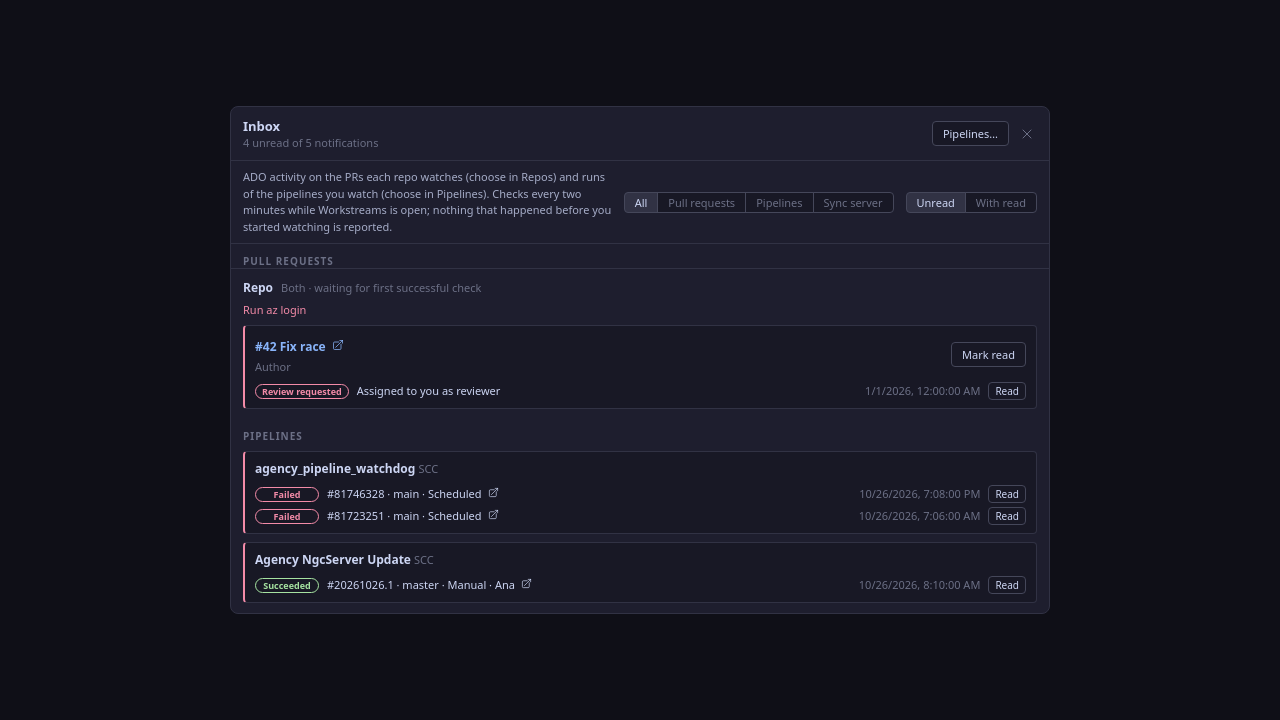
Inbox, pipelines (ADR 038) › filters by kind and by read state
The image size is (1280, 720).
Click the button "Pipelines" at [779, 202], box [745, 192, 814, 212]
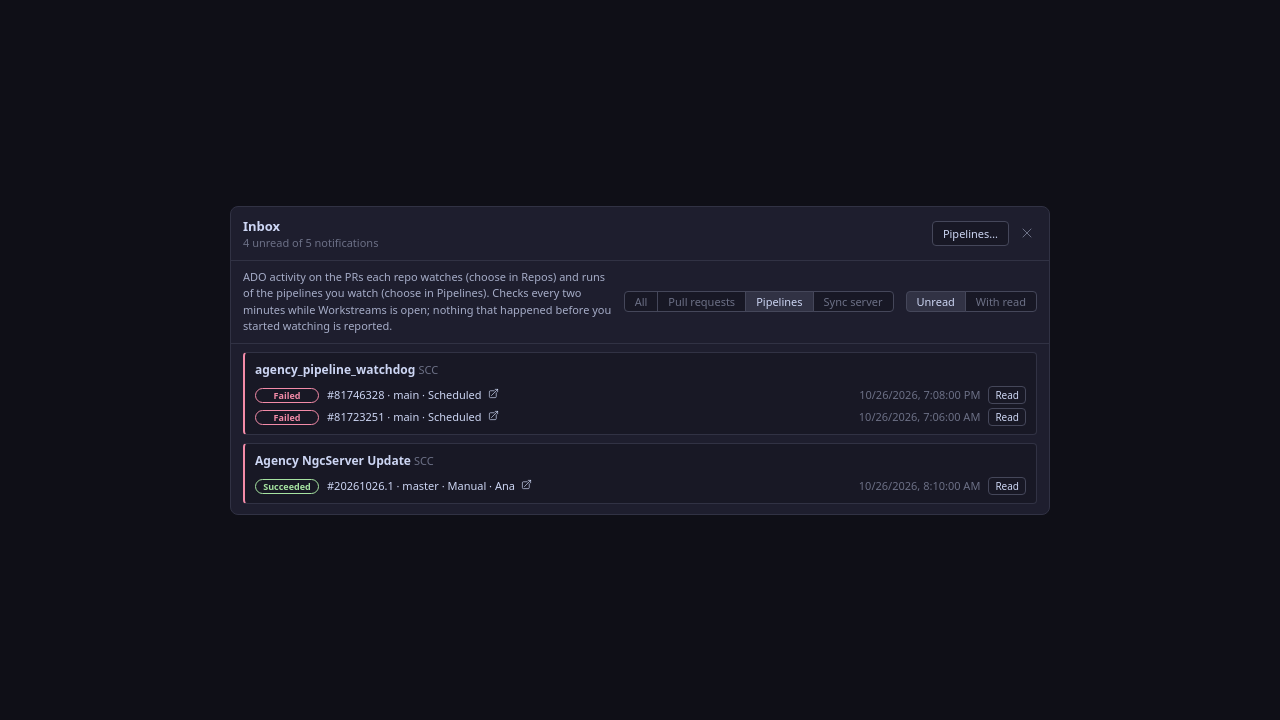
Check: the element with test id "inbox-section-pipelines" is shown, box [231, 352, 1049, 514]
Check: the element with test id "inbox-section-prs" is gone
Click the button "With read" at [1001, 302], box [965, 291, 1037, 312]
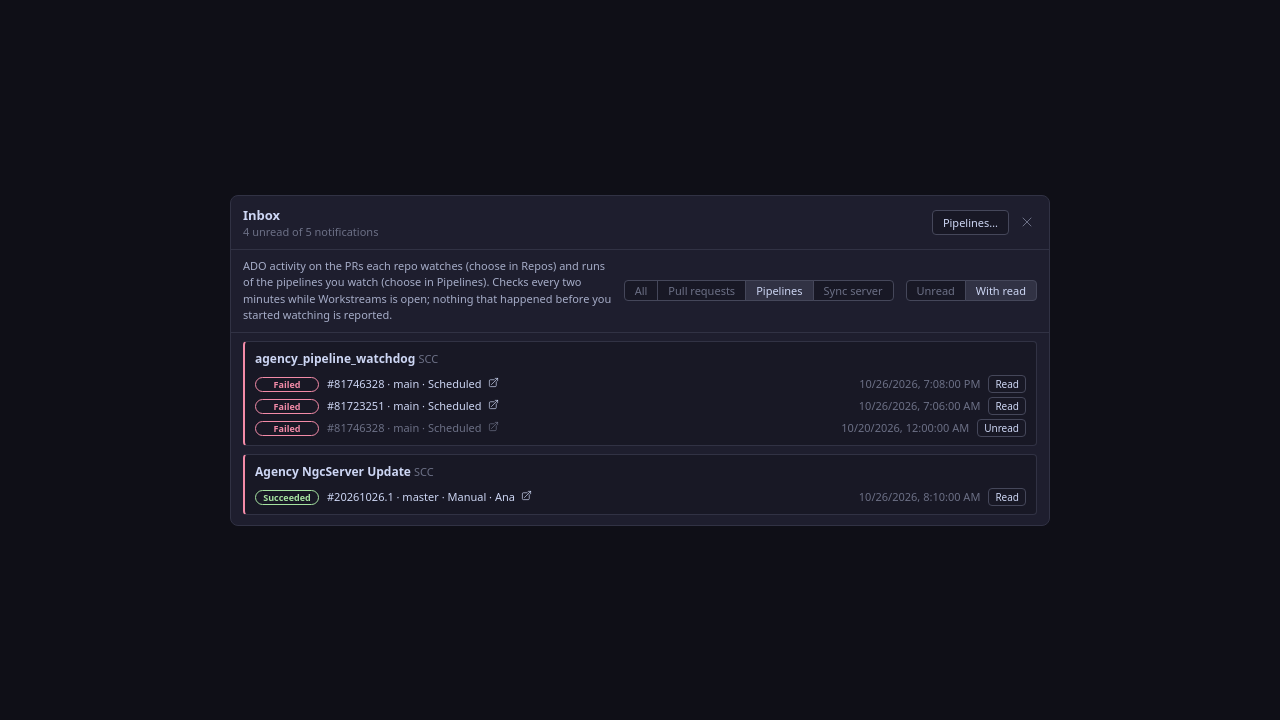
Check: the list item with test id "pipeline-notification-old" is shown, box [255, 418, 1026, 436]
Click the button "Pull requests" at [702, 290], box [657, 280, 746, 301]
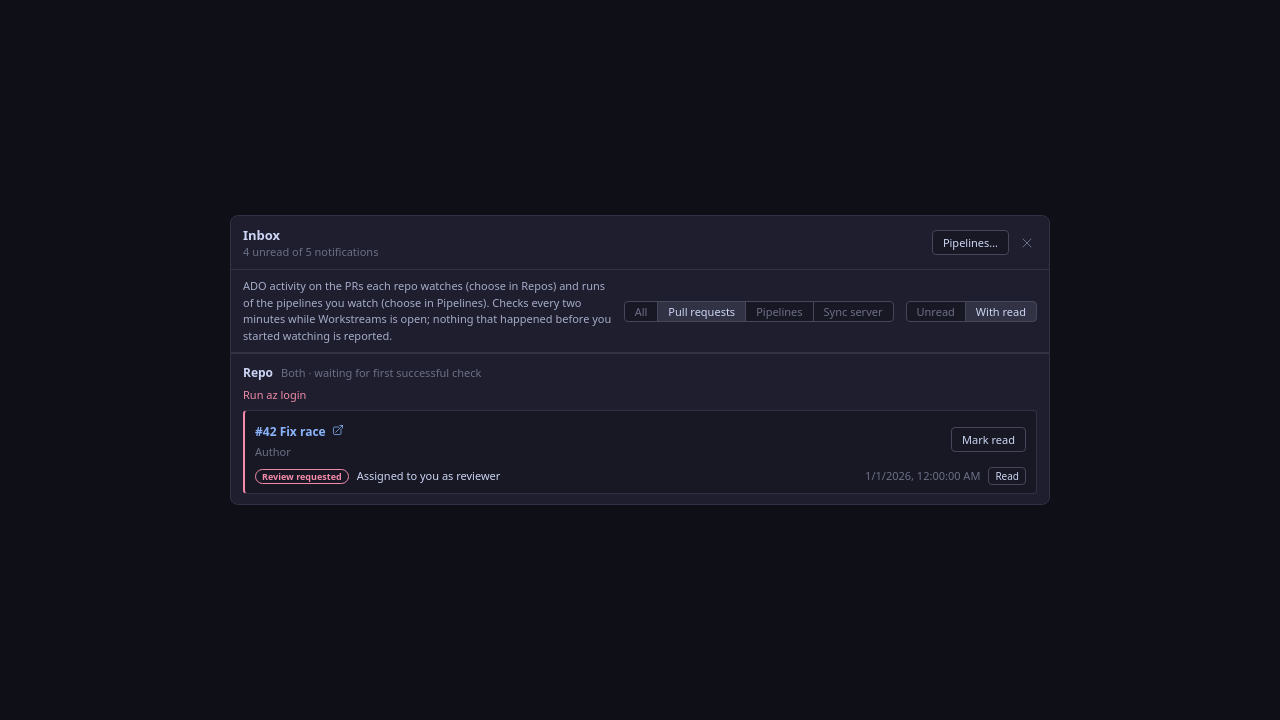
Check: the element with test id "inbox-section-pipelines" is gone
Check: the element with test id "inbox-section-prs" is shown, box [231, 353, 1049, 504]
Click the button "All" at [641, 311], box [624, 300, 658, 322]
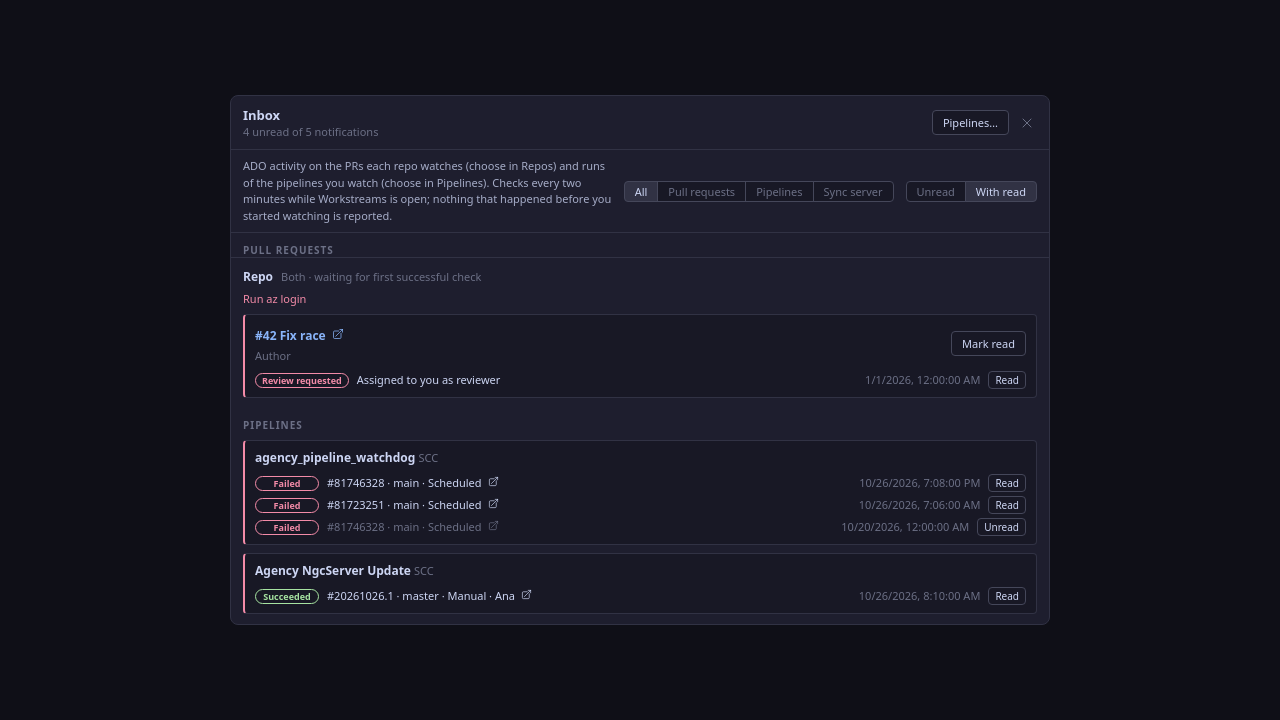
Check: the element with test id "inbox-section-pipelines" is shown, box [231, 418, 1049, 624]
